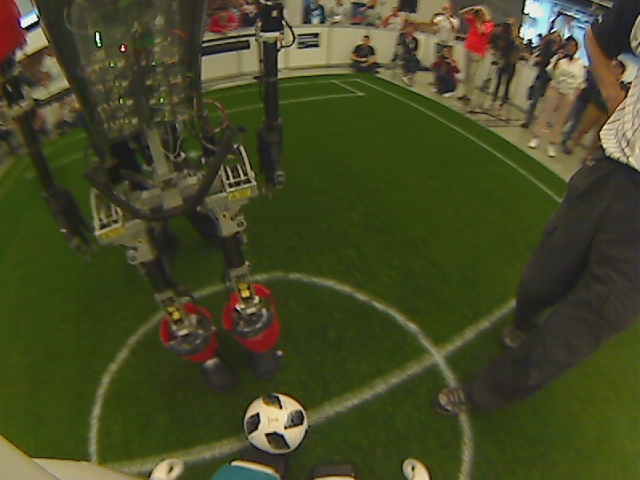ball: (241, 389, 312, 457)
